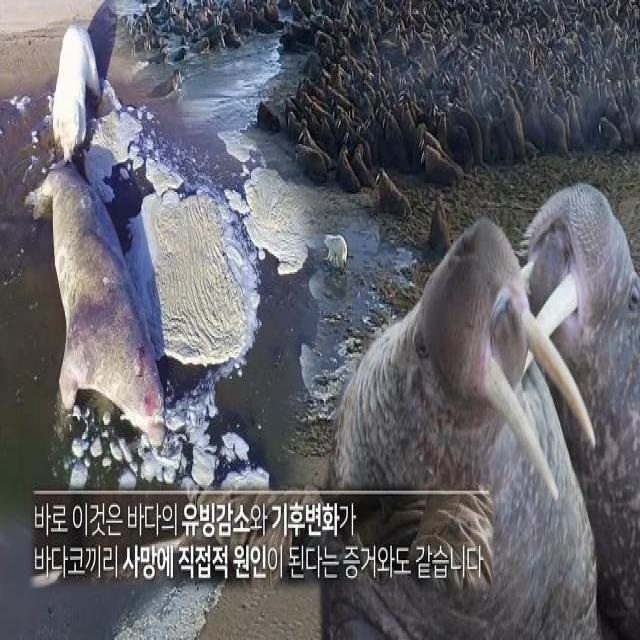walrus: (340, 201, 582, 576), (484, 103, 638, 440)
